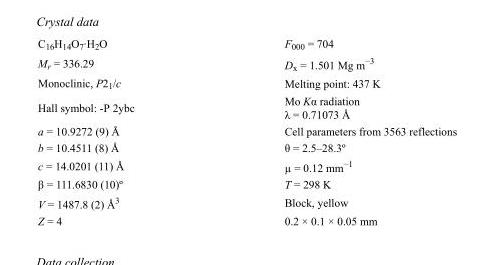table: (37, 36, 456, 226)
table column: (208, 36, 456, 226), (37, 36, 208, 226)
table row: (37, 92, 456, 122), (37, 52, 456, 74), (37, 155, 456, 175), (37, 192, 456, 211), (37, 74, 456, 92), (37, 138, 456, 155), (37, 175, 456, 192), (37, 36, 456, 52), (37, 122, 456, 138), (37, 211, 456, 226)
